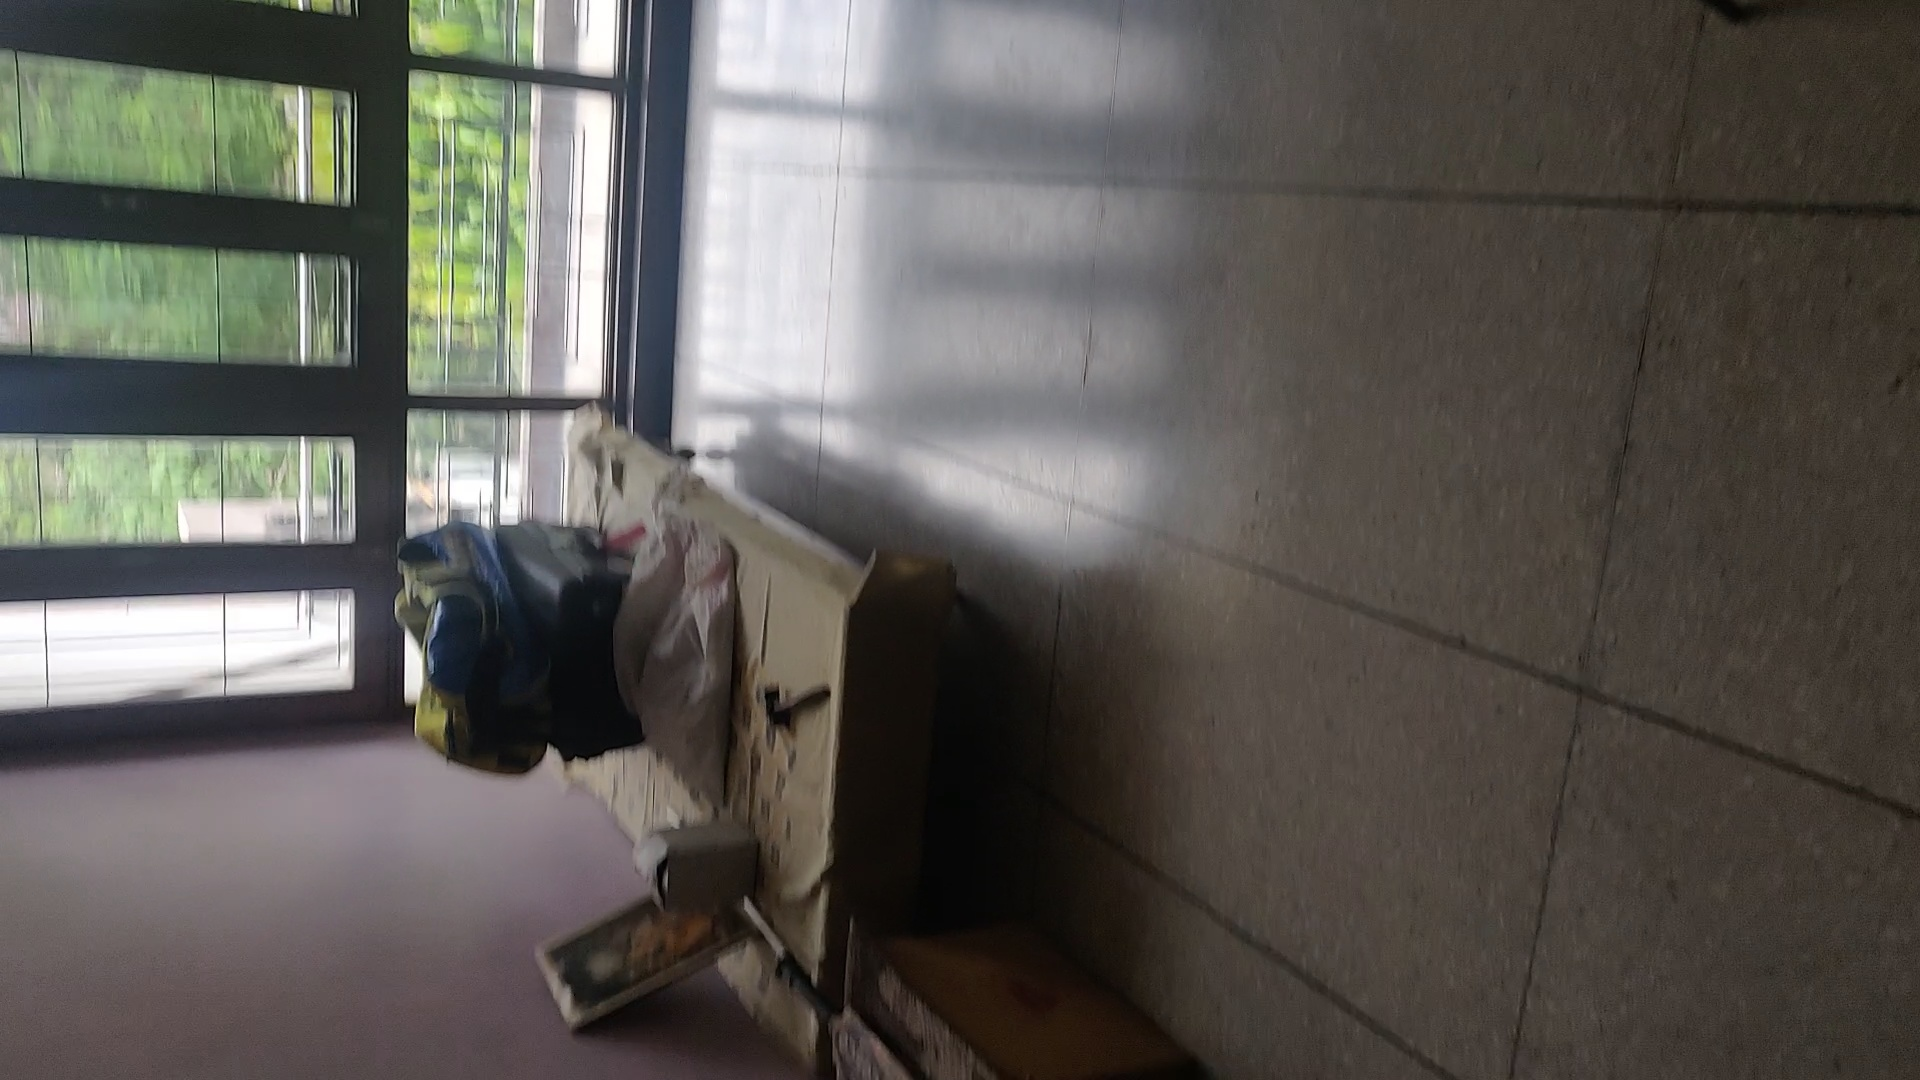hammer: (760, 680, 829, 740)
